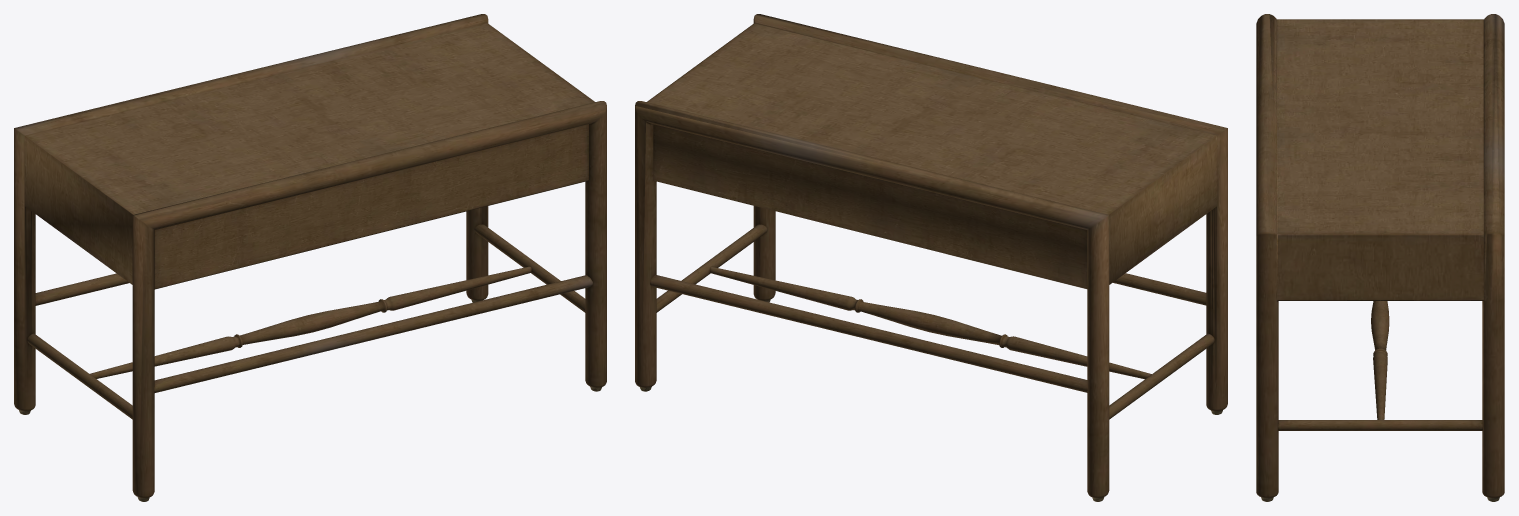
Rendered from small_wooden_table_01.glb.
The picture shows the model from 3 angles, left to right: view 1: azimuth 30°, elevation 25°; view 2: azimuth 150°, elevation 25°; view 3: azimuth 270°, elevation 25°; orthographic projection. The views are drawn at different scales.
Visible parts, largest first — view 1: small_wooden_table_01; view 2: small_wooden_table_01; view 3: small_wooden_table_01.
Part boxes in pixels (left/top/right/bottom): small_wooden_table_01: left=14, top=14, right=606, bottom=501; small_wooden_table_01: left=635, top=14, right=1227, bottom=501; small_wooden_table_01: left=1256, top=14, right=1504, bottom=501.
Size of the model in its own units: 0.9162 by 0.5331 by 0.4399.
Materials: 1 (1 with a texture image).
